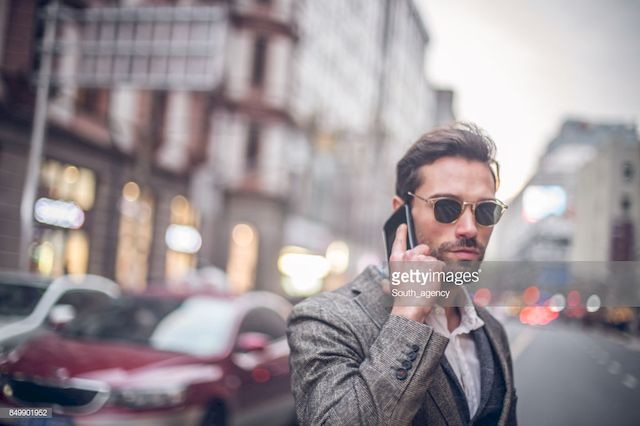phone: (381, 211, 431, 289)
talk: (381, 188, 504, 300)
